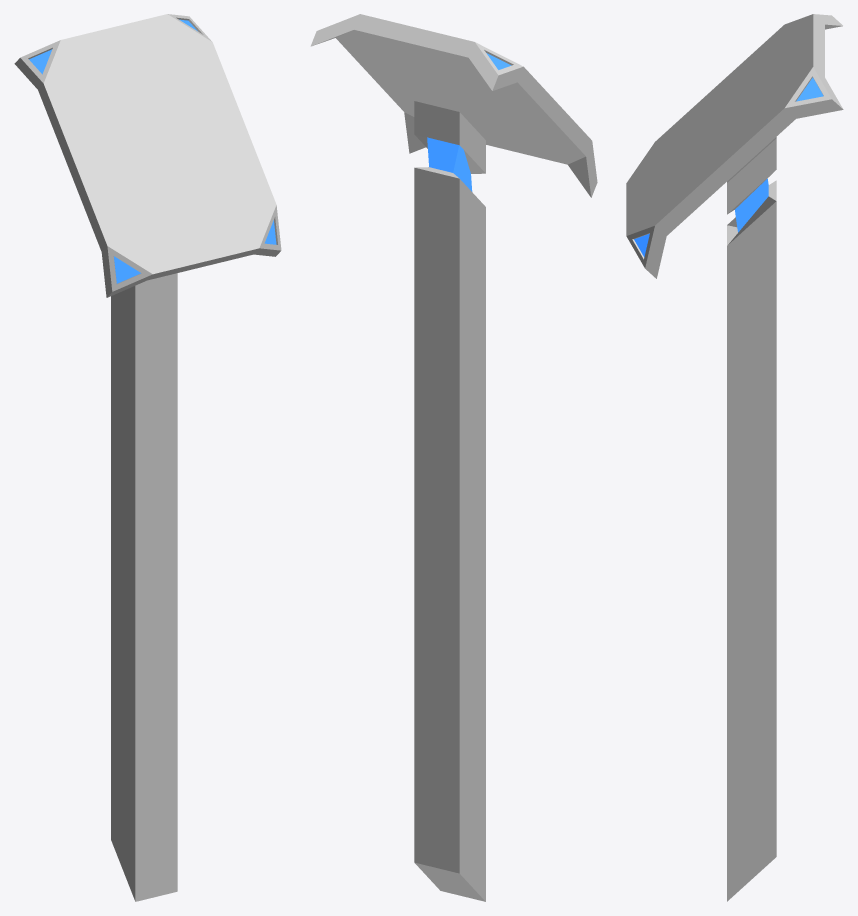
The model's file is Console.fbx.
3 renders of one model, left to right at view 1: azimuth 30°, elevation 25°; view 2: azimuth 150°, elevation 25°; view 3: azimuth 270°, elevation 25°, orthographic. The views are drawn at different scales.
Visible parts, largest first — view 1: ConsoleFancy; view 2: ConsoleFancy; view 3: ConsoleFancy.
Boxes of the visible parts, left/top/right/bottom form: ConsoleFancy: left=14, top=14, right=281, bottom=901; ConsoleFancy: left=310, top=14, right=597, bottom=901; ConsoleFancy: left=626, top=14, right=843, bottom=901.
Bounding box in the file's own units: 60 × 284 × 65.78.
